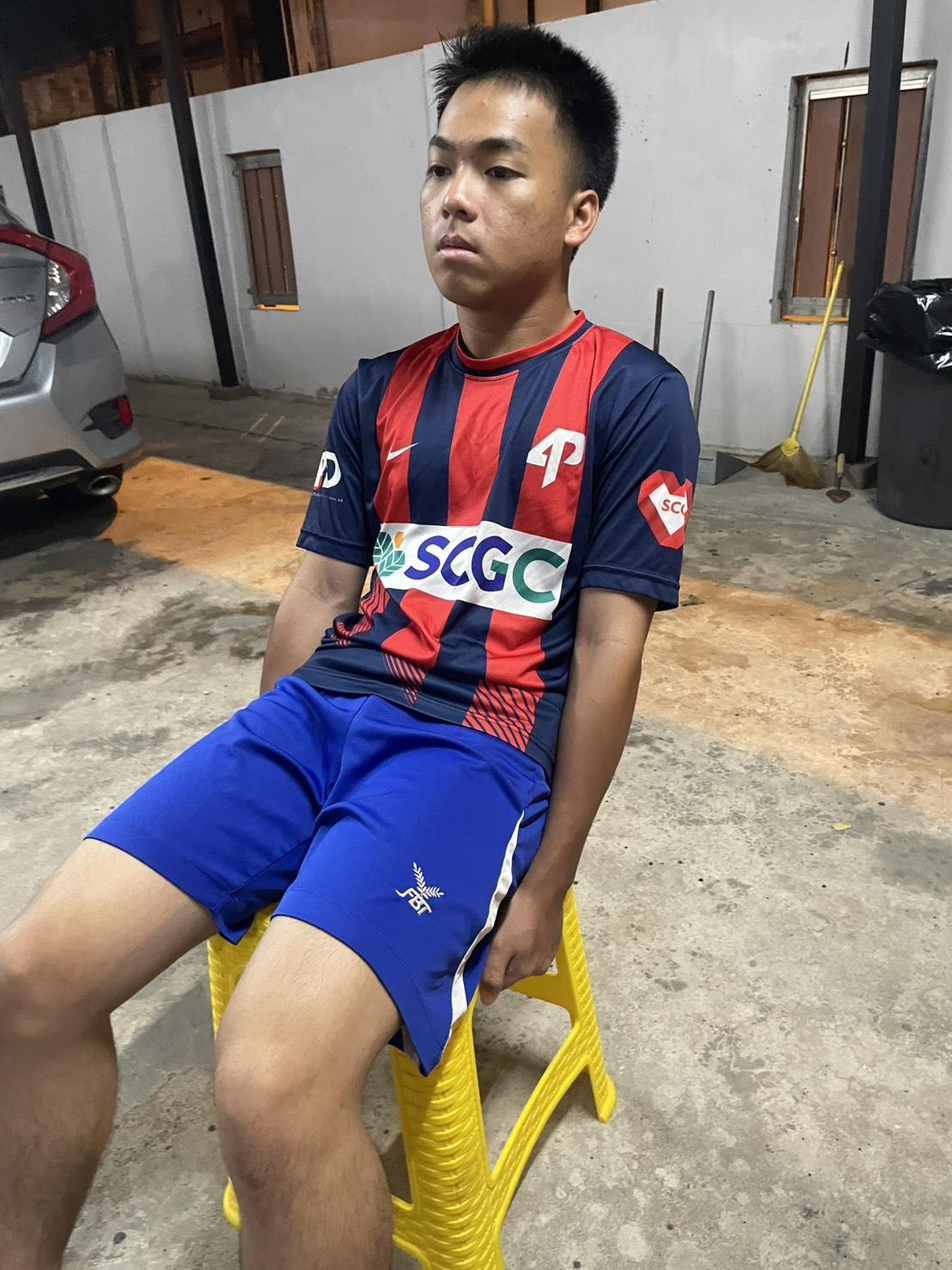BadPosture: (321, 28, 697, 763)
